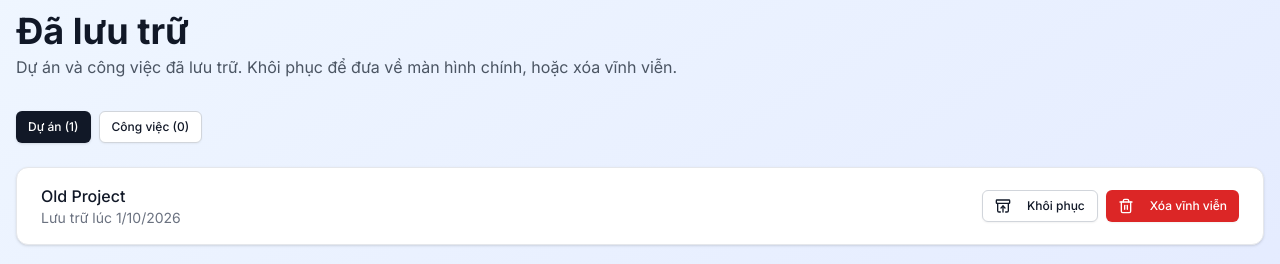
it: Archived page › restores an archived project via Khôi phục, removing it from the list
Expected: the text "Old Project" is shown, [41,186,125,206]
Click the button "Khôi phục".
click(1040, 206)  # box [982,190,1098,222]
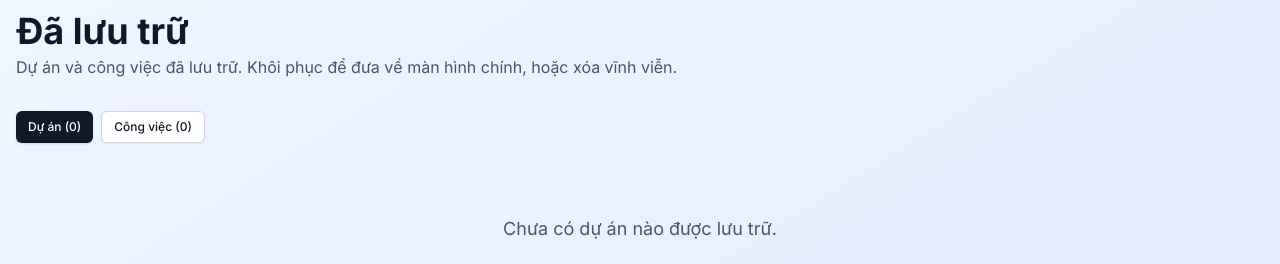
Result: the text "Old Project" is gone
